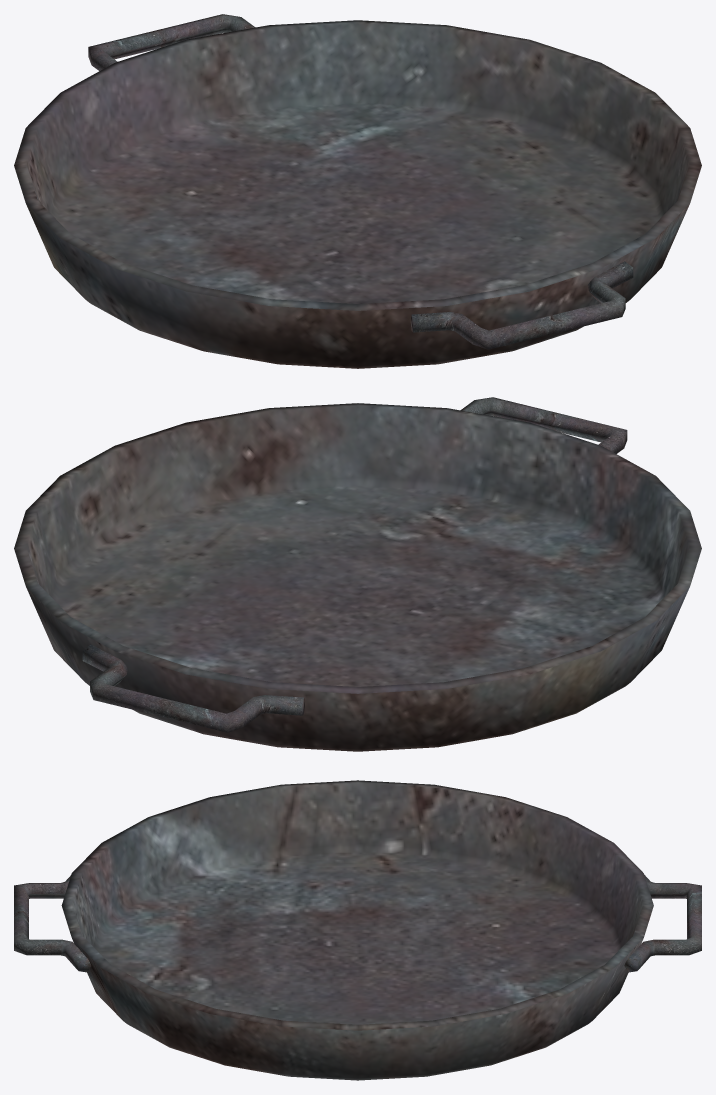
The model's file is SM_KitchenwareK.FBX.
3 views of the same model, one above another, from view 1: azimuth 30°, elevation 25°; view 2: azimuth 150°, elevation 25°; view 3: azimuth 270°, elevation 25° (orthographic). The views are drawn at different scales.
Parts seen in each view (by area): view 1: SM_KitchenwareK; view 2: SM_KitchenwareK; view 3: SM_KitchenwareK.
Boxes of the visible parts, x1,y1,x2,y2 form: SM_KitchenwareK: (14, 14, 701, 368); SM_KitchenwareK: (14, 397, 701, 751); SM_KitchenwareK: (14, 780, 701, 1080).
Size of the model in its own units: 25.16 by 3 by 29.22.
